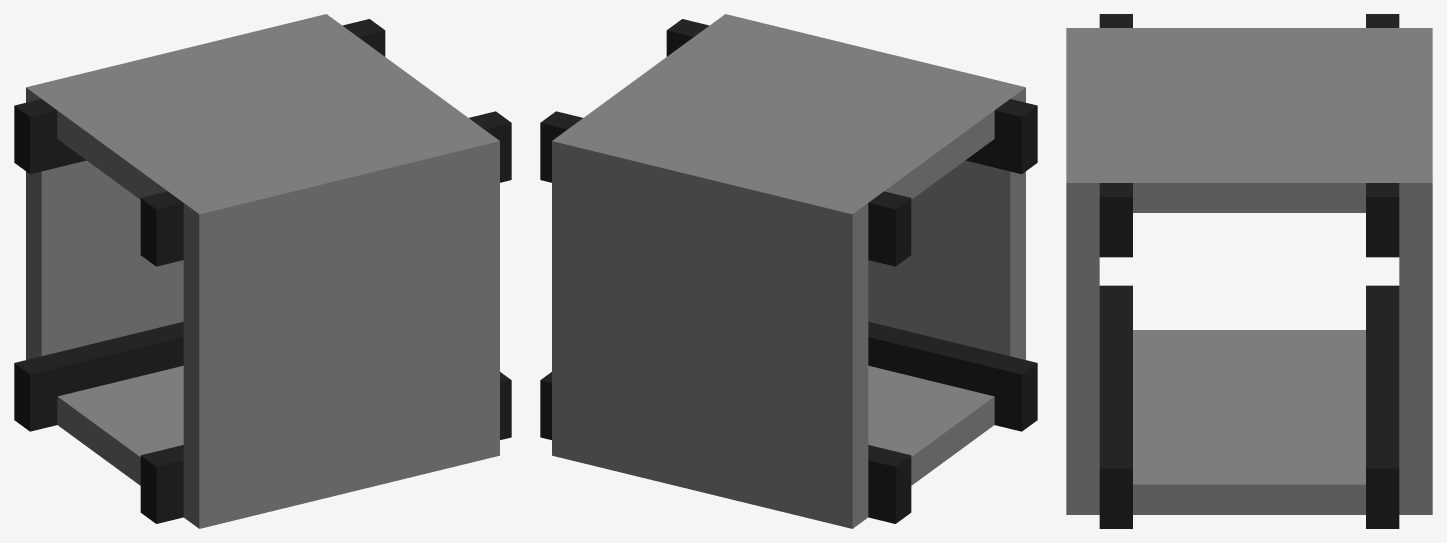
The model's file is snap point.obj.
3 renders of one model, left to right at view 1: azimuth 30°, elevation 25°; view 2: azimuth 150°, elevation 25°; view 3: azimuth 270°, elevation 25°, orthographic. The views are drawn at different scales.
Bounding box in the file's own units: 1.3 × 1.1 × 1.1.
1 material, 1 textured.
